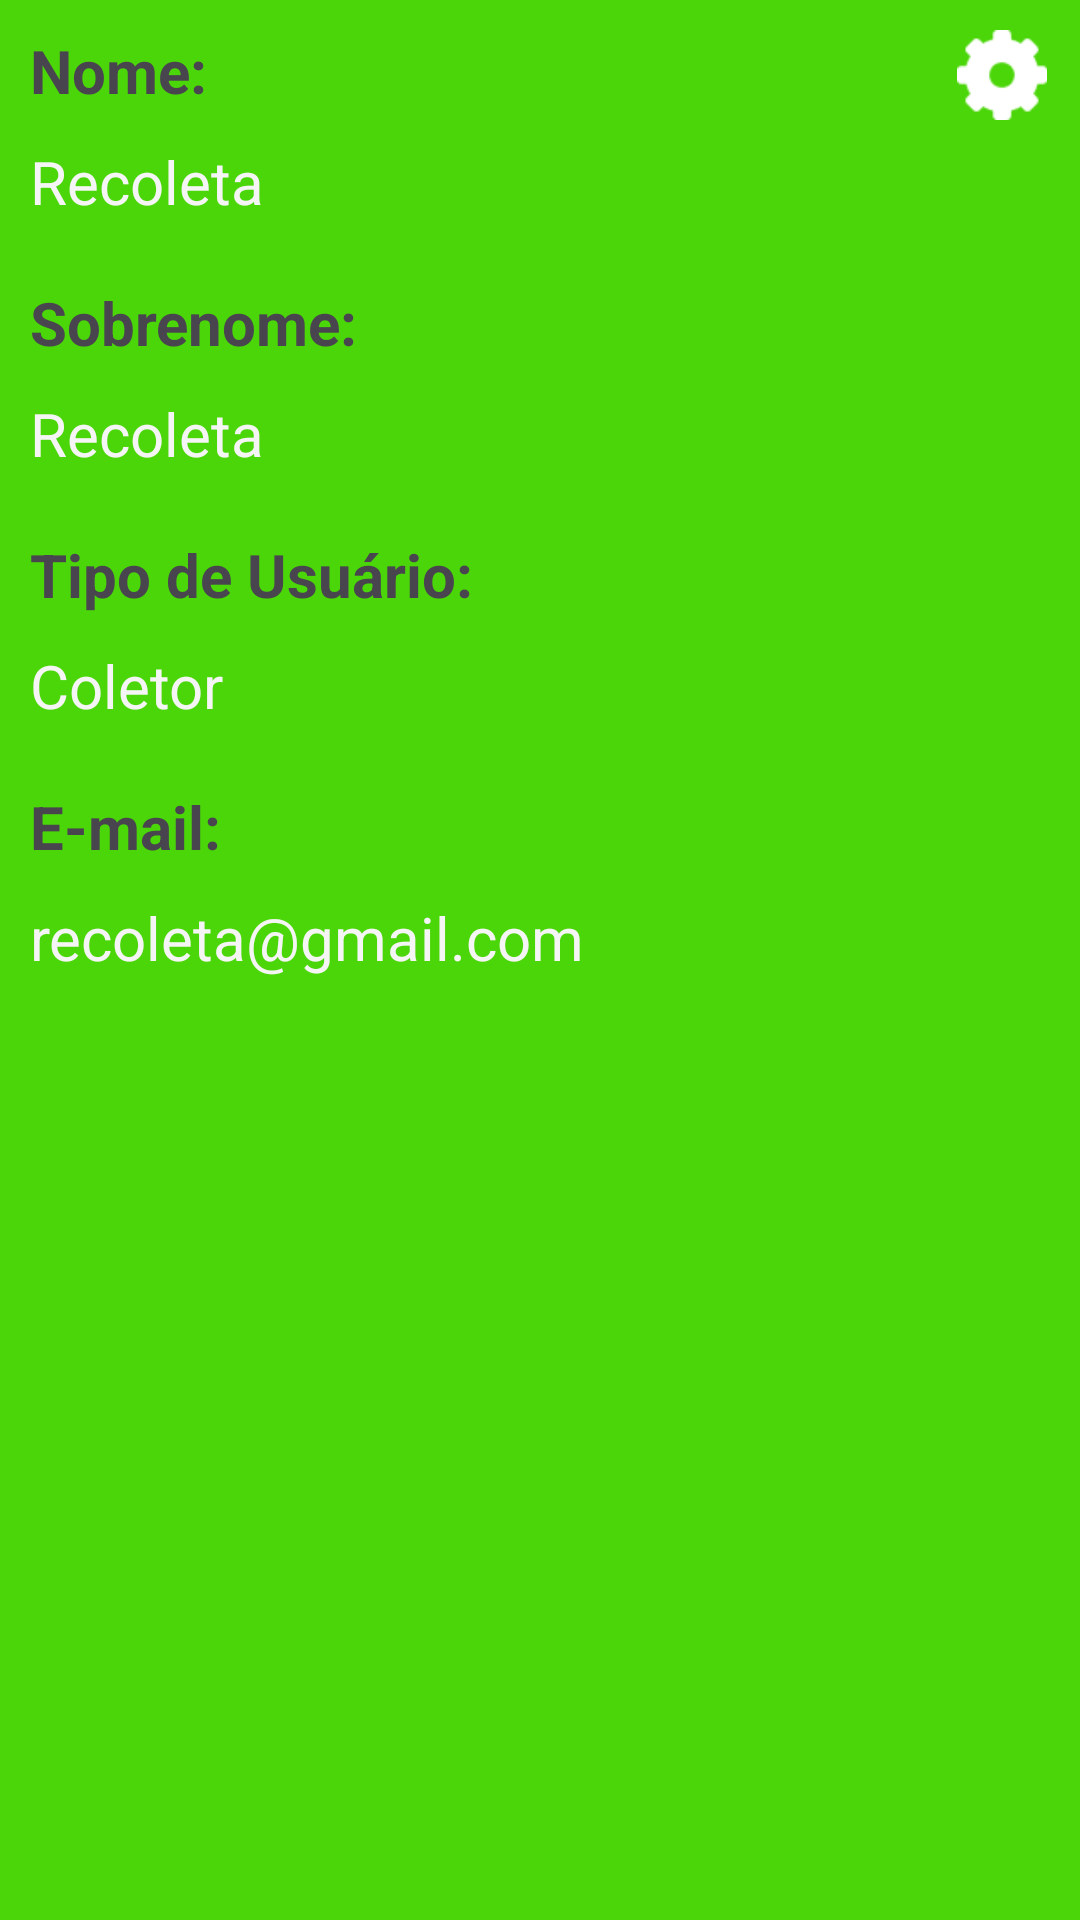

Named icons in this screenshot (1080px×1920px) and their centers, (x,y):
gear: (1002,75)
